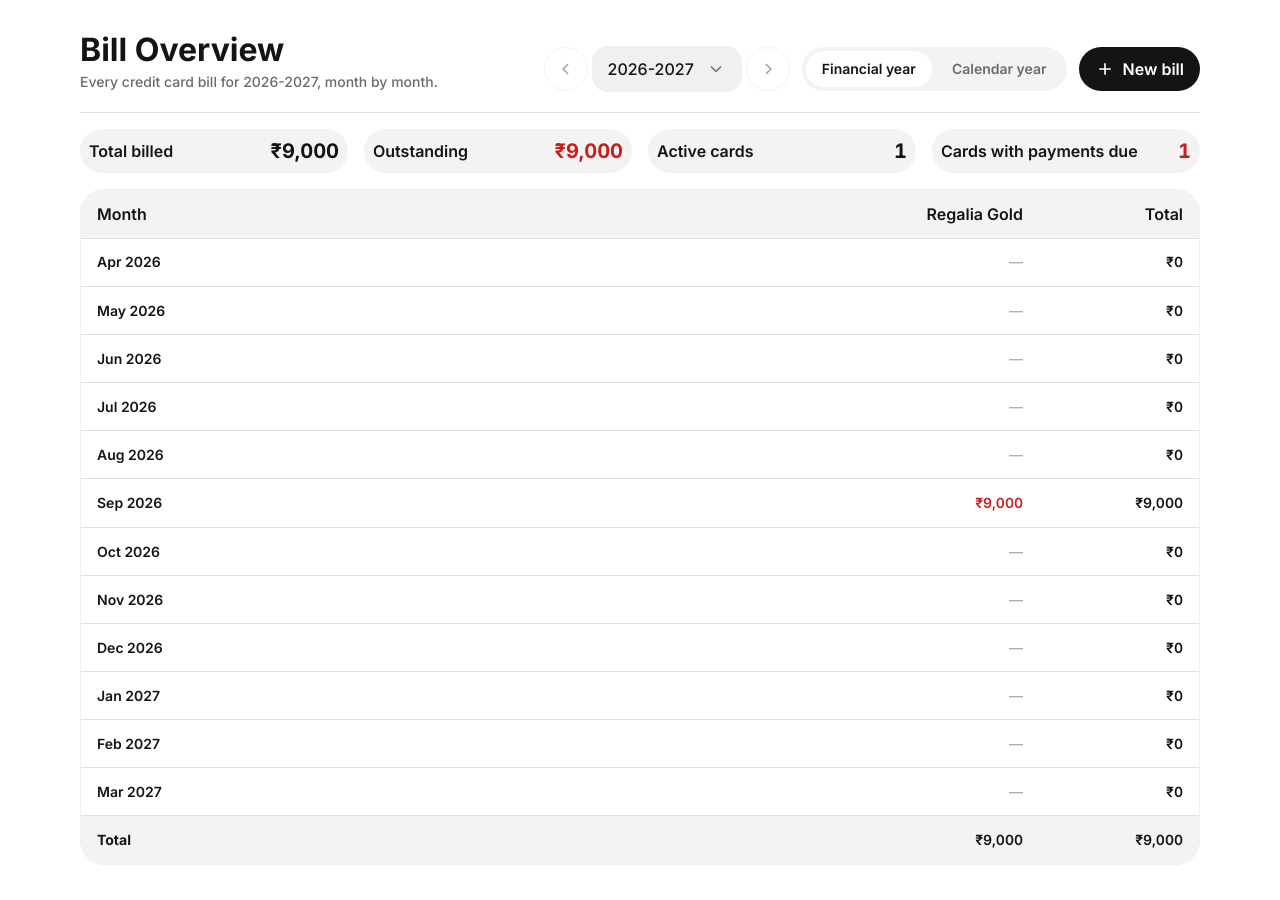
Test: Bill Overview › uses an application dialog to confirm removing a bill
Click the button named "Regalia Gold bill for Sep 2026".
click(999, 503)  # box [249, 485, 1031, 521]
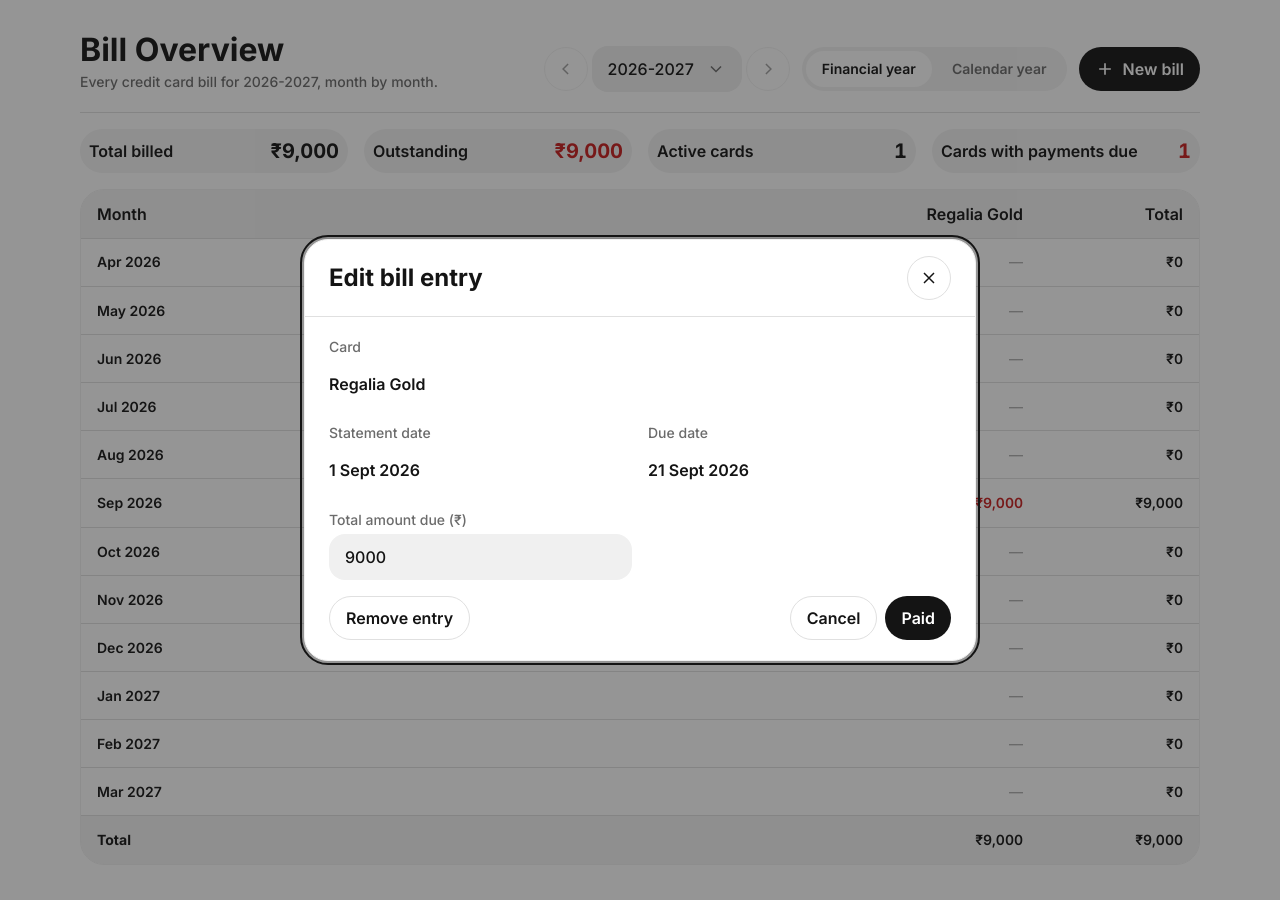
Click the button "Remove entry".
click(400, 618)  # box [329, 596, 470, 640]
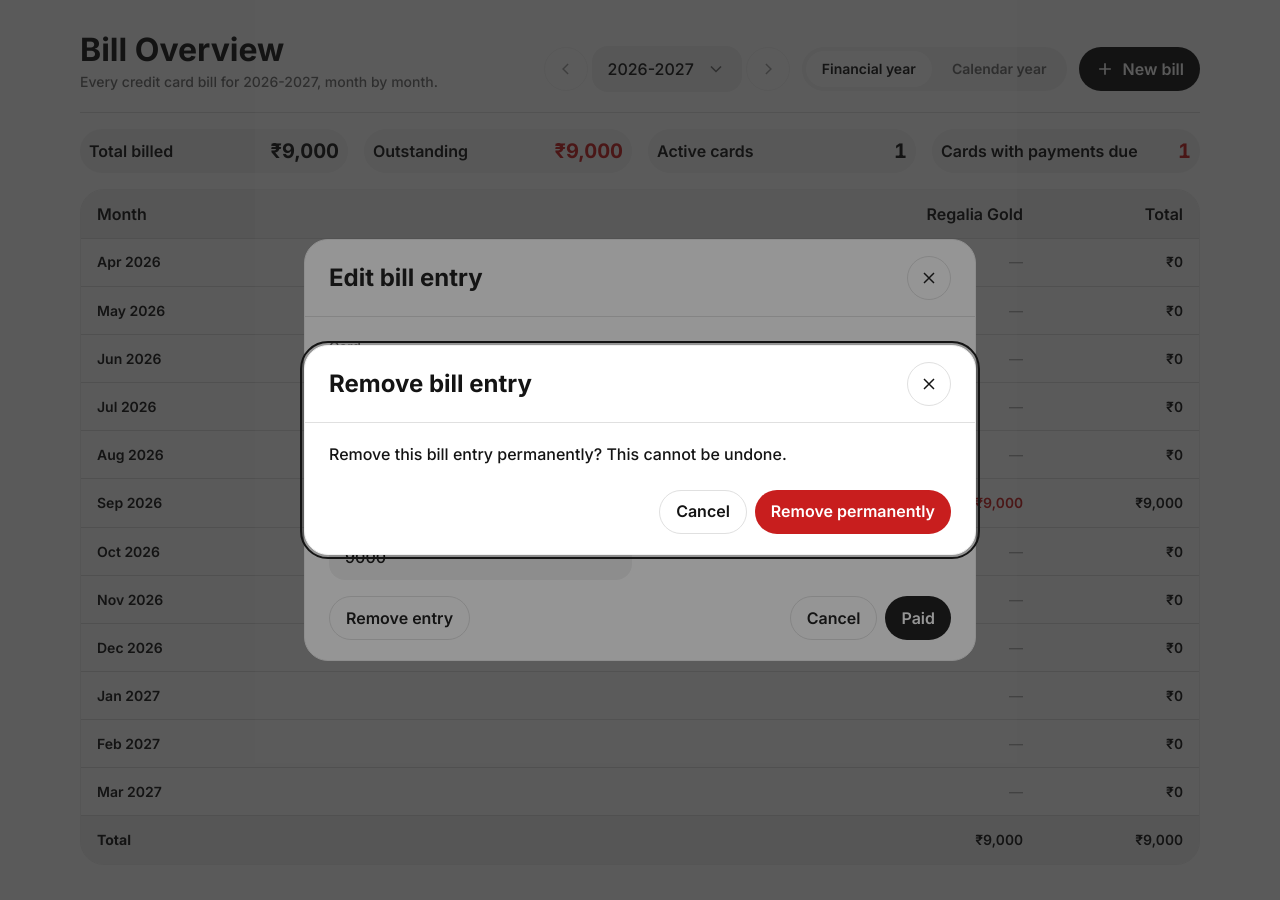
Now the dialog "Remove bill entry" shows "Remove this bill entry permanently? This cannot be undone.", box [329, 444, 787, 464]
